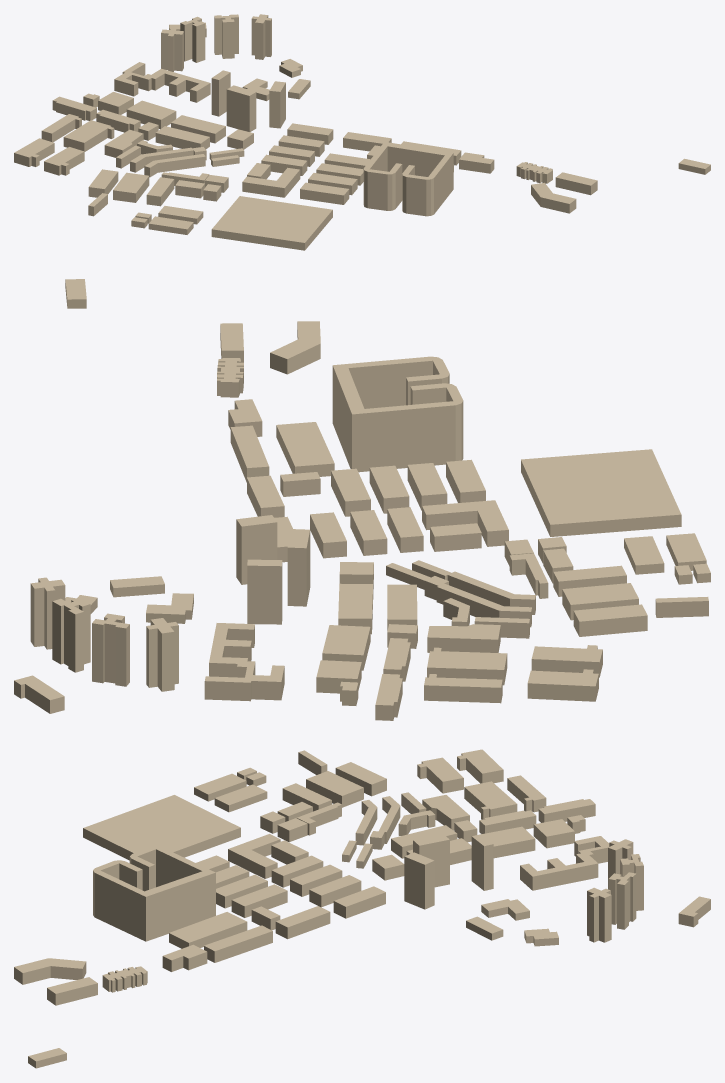
The model's file is -10_11-estimated-coarse.glb.
3 renders of one model, top to bottom at view 1: azimuth 30°, elevation 25°; view 2: azimuth 150°, elevation 25°; view 3: azimuth 270°, elevation 25°, orthographic. The views are drawn at different scales.
Size of the model in its own units: 839 by 57 by 804.
